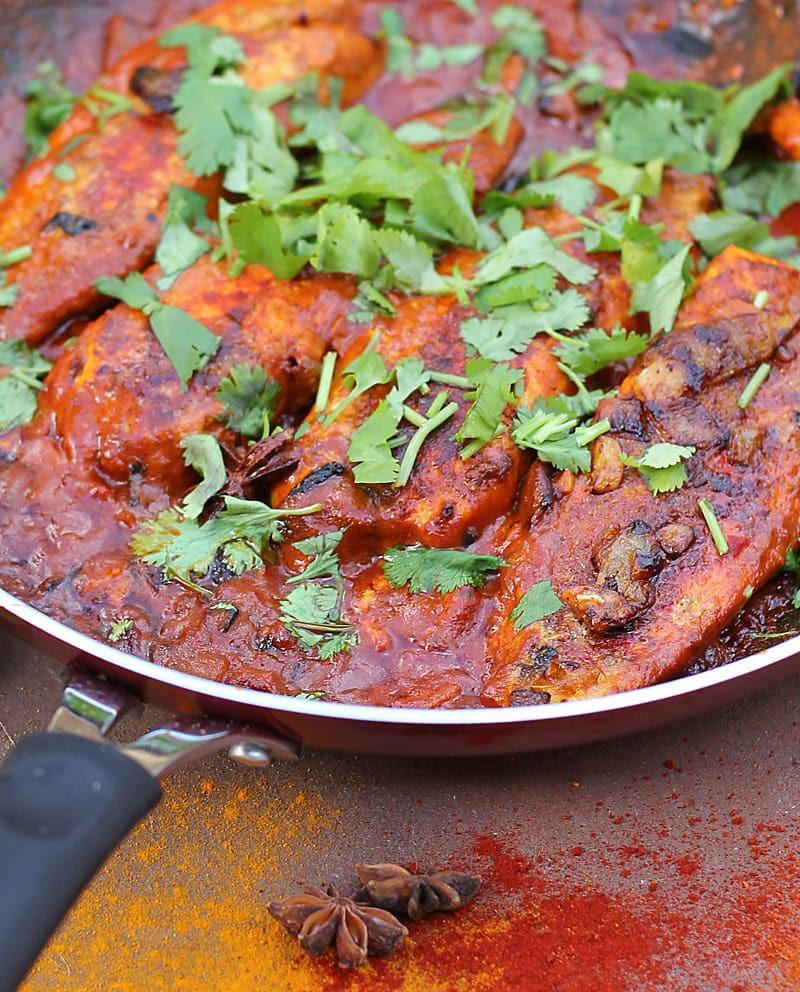FishCurry: (0, 0, 800, 708)
